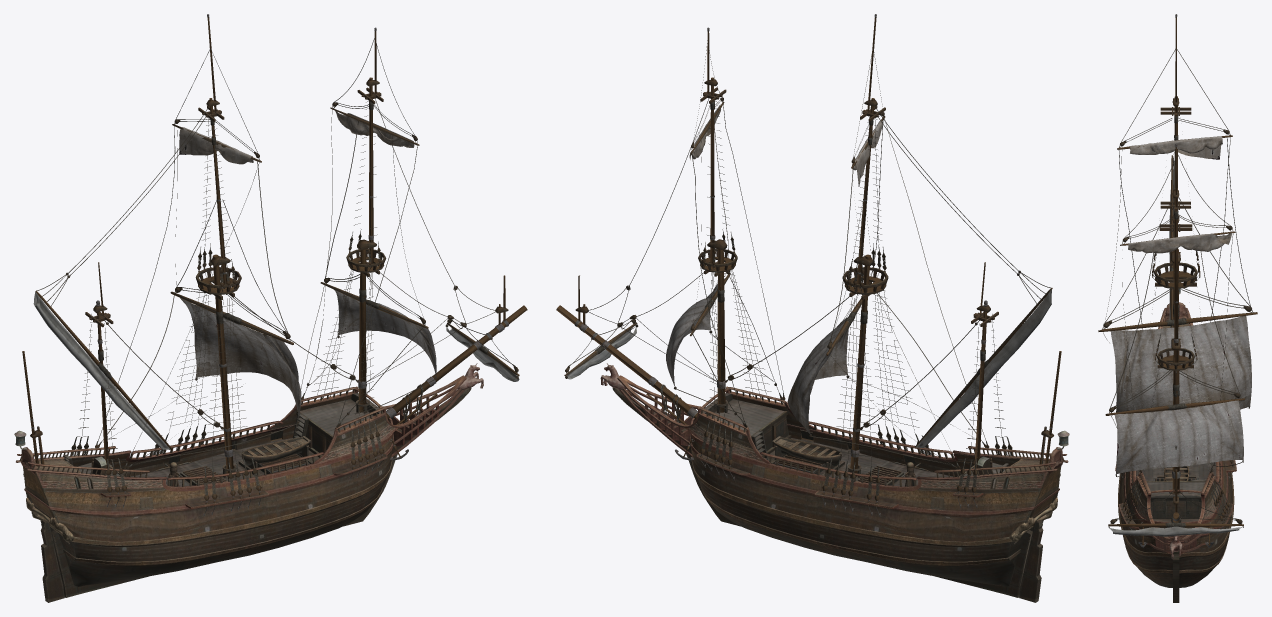
File: dutch_ship_medium.glb
The picture shows the model from 3 angles, left to right: view 1: azimuth 30°, elevation 25°; view 2: azimuth 150°, elevation 25°; view 3: azimuth 270°, elevation 25°; orthographic projection. The views are drawn at different scales.
Visible parts, largest first — view 1: dutch_ship_medium_hull, dutch_ship_medium_rigging, dutch_ship_medium_sails; view 2: dutch_ship_medium_hull, dutch_ship_medium_rigging, dutch_ship_medium_sails; view 3: dutch_ship_medium_sails, dutch_ship_medium_rigging, dutch_ship_medium_hull.
Boxes of the visible parts, x1,y1,x2,y2 form: dutch_ship_medium_hull: [14, 363, 483, 602]; dutch_ship_medium_rigging: [22, 14, 527, 516]; dutch_ship_medium_sails: [179, 111, 436, 419]; dutch_ship_medium_hull: [600, 363, 1069, 602]; dutch_ship_medium_rigging: [556, 14, 1061, 516]; dutch_ship_medium_sails: [666, 104, 882, 434]; dutch_ship_medium_sails: [1110, 136, 1251, 474]; dutch_ship_medium_rigging: [1098, 14, 1257, 547]; dutch_ship_medium_hull: [1115, 288, 1236, 602].
Bounding box in the file's own units: 24.08 × 24.66 × 6.81.
Materials: 3 (3 with a texture image).
